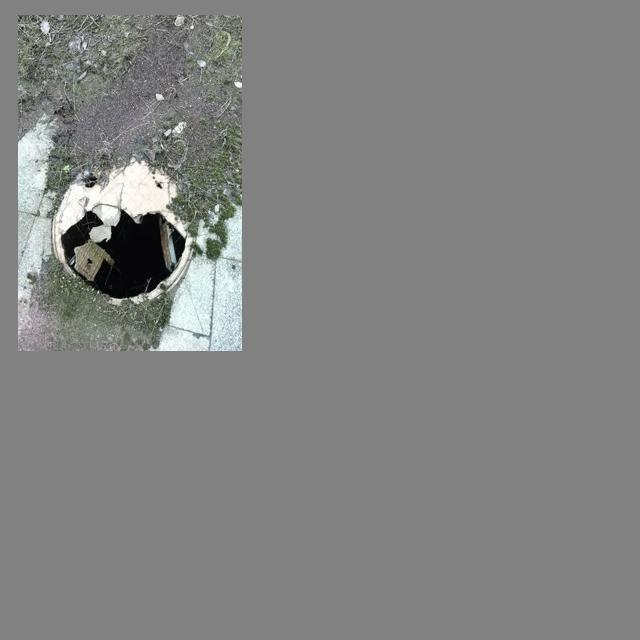broke: (36, 152, 208, 310)
